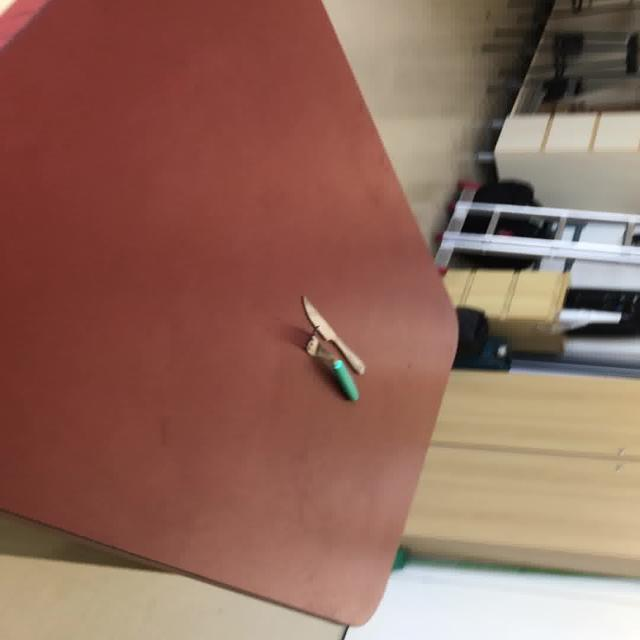knife fork: (298, 294, 366, 375)
